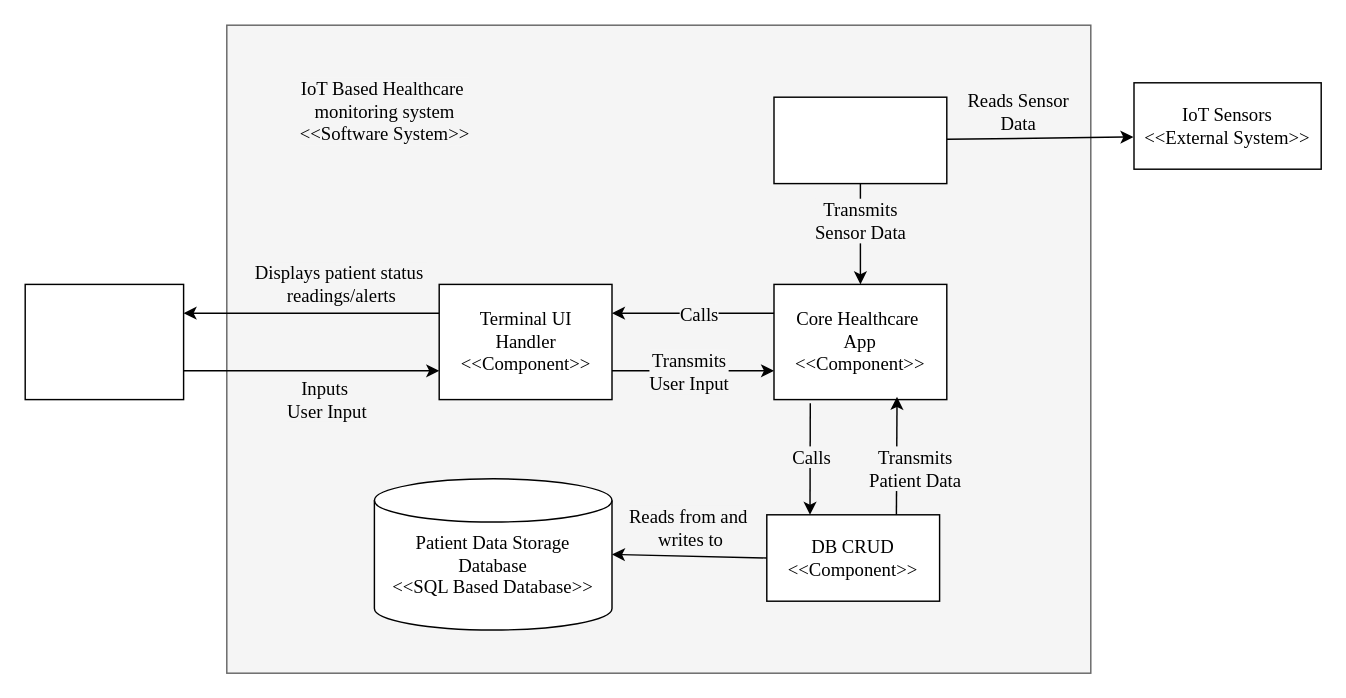
Some shapes in this 1346 by 698 pixel diagram are drawn without their labels. Each missing label, with the centre of its shape:
Healthcare Staff << Person >>: the point at 104,341
Sensor Data Observers <<Component>>: the point at 860,140
